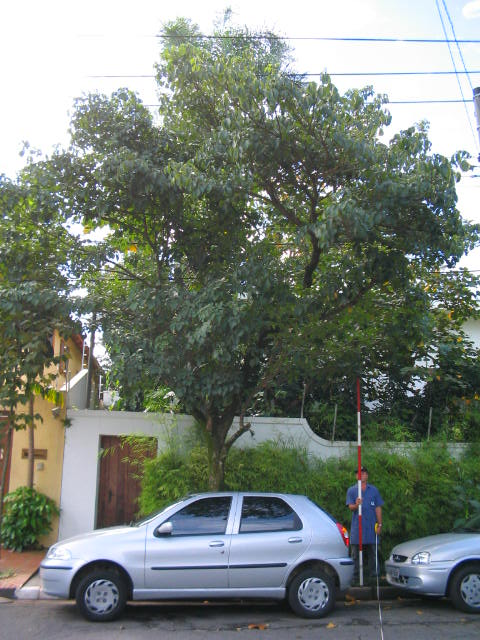crown: (7, 9, 478, 452)
stem: (189, 437, 241, 584)
stick: (349, 375, 371, 586)
tree: (4, 9, 479, 589)
